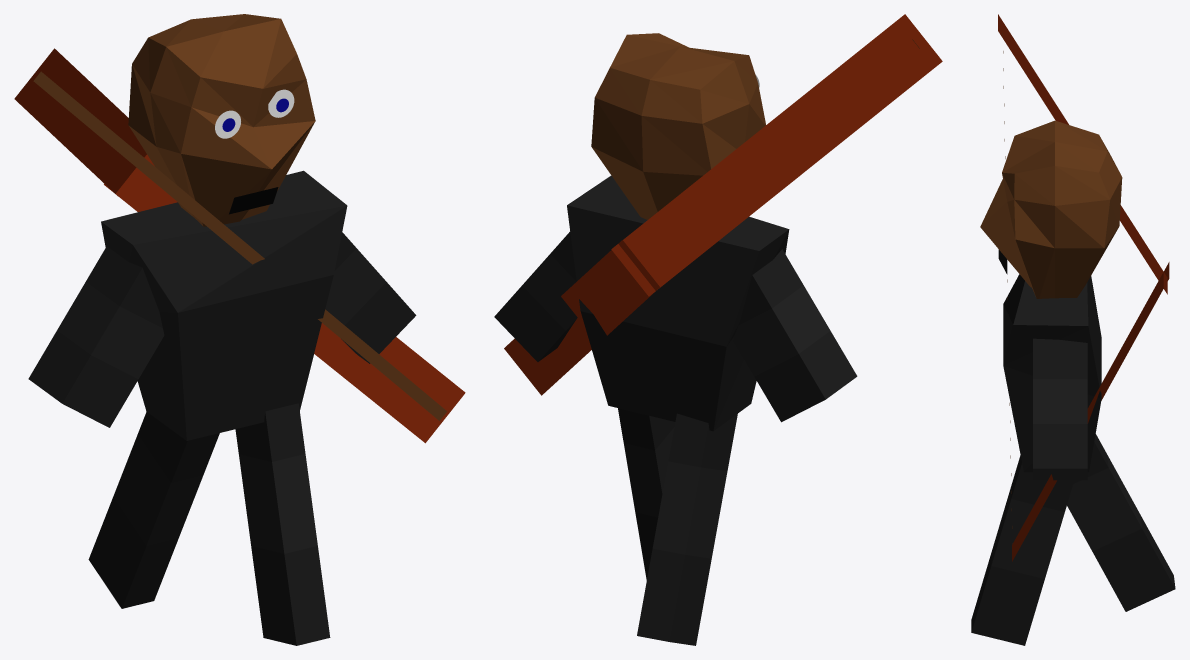
The model's file is heavyarcher2.obj.
The picture shows the model from 3 angles, left to right: view 1: azimuth 30°, elevation 25°; view 2: azimuth 150°, elevation 25°; view 3: azimuth 270°, elevation 25°; orthographic projection. The views are drawn at different scales.
Visible parts, largest first — view 1: Cube.001, Cube, Cube.005, Cube.003, Cube.004, Plane.001_Plane.002, Plane.002_Plane.003, Plane.003_Plane.004, Cube.002, Plane; view 2: Cube.001, Plane.002_Plane.003, Cube, Cube.004, Cube.003, Plane.001_Plane.002, Cube.002, Cube.005; view 3: Cube, Cube.005, Cube.001, Cube.004, Cube.002, Plane.001_Plane.002, Plane.002_Plane.003.
Part boxes in pixels (left/top/right/bottom): Cube.001: left=101, top=170, right=347, bottom=440; Cube: left=128, top=14, right=315, bottom=226; Cube.005: left=235, top=403, right=330, bottom=645; Cube.003: left=28, top=246, right=164, bottom=427; Cube.004: left=88, top=412, right=219, bottom=608; Plane.001_Plane.002: left=104, top=154, right=465, bottom=443; Plane.002_Plane.003: left=14, top=48, right=146, bottom=195; Plane.003_Plane.004: left=33, top=71, right=446, bottom=420; Cube.002: left=325, top=232, right=416, bottom=363; Plane: left=229, top=187, right=278, bottom=214; Cube.001: left=567, top=175, right=789, bottom=431; Plane.002_Plane.003: left=611, top=14, right=942, bottom=296; Cube: left=591, top=33, right=765, bottom=219; Cube.004: left=637, top=413, right=737, bottom=645; Cube.003: left=733, top=249, right=857, bottom=422; Plane.001_Plane.002: left=504, top=240, right=659, bottom=395; Cube.002: left=494, top=231, right=577, bottom=361; Cube.005: left=618, top=408, right=675, bottom=580; Cube: left=980, top=120, right=1122, bottom=298; Cube.005: left=971, top=455, right=1074, bottom=645; Cube.001: left=1003, top=274, right=1101, bottom=472; Cube.004: left=1067, top=434, right=1175, bottom=611; Cube.002: left=1033, top=338, right=1087, bottom=480; Plane.001_Plane.002: left=1012, top=262, right=1169, bottom=561; Plane.002_Plane.003: left=998, top=14, right=1167, bottom=294.
Bounding box in the file's own units: 4.75 × 6.48 × 2.26.
